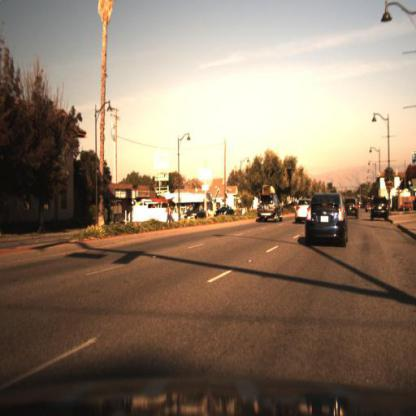car: (305, 190, 347, 245), (256, 191, 283, 223), (212, 204, 240, 223), (294, 200, 316, 223), (182, 203, 210, 220), (370, 195, 388, 219), (399, 197, 413, 218)
